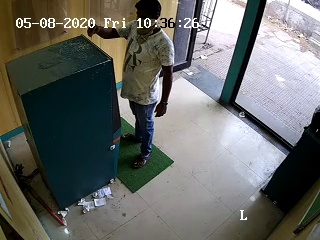open: (182, 1, 268, 112)
